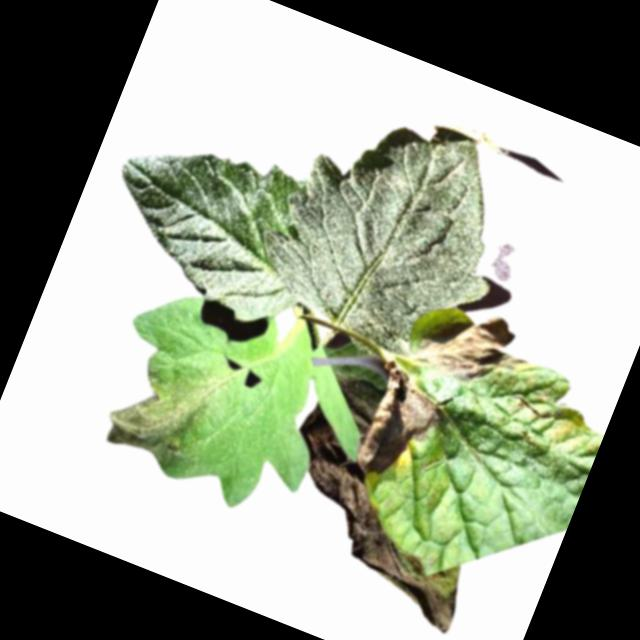Late_blight: (248, 398, 507, 635), (340, 357, 457, 503), (408, 290, 539, 405), (96, 357, 220, 475), (313, 367, 389, 447)
